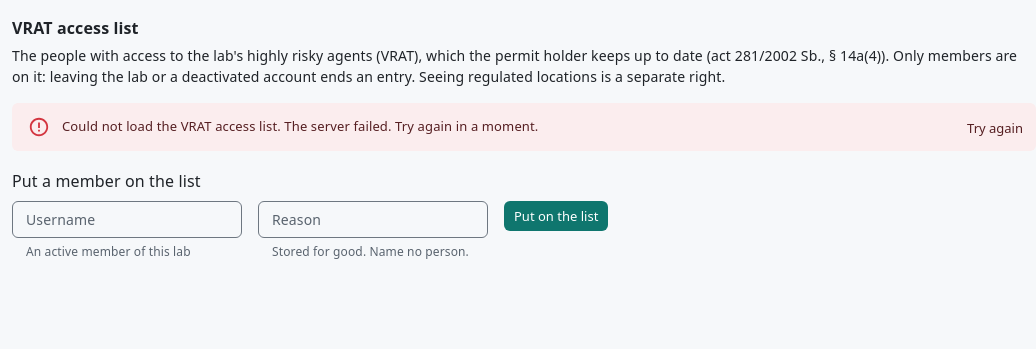
Test: the VRAT access list on the lab page (act 281/2002 Sb., § 14a(4)) › shows a failure to load with a retry that works
This screenshot has width=1036, height=349.
Check: the message shows "Could not load the VRAT access list.", box top-left (12, 103), bottom-right (1035, 151)
Click the button "Try again".
click(995, 128)  # box top-left (962, 113), bottom-right (1028, 144)
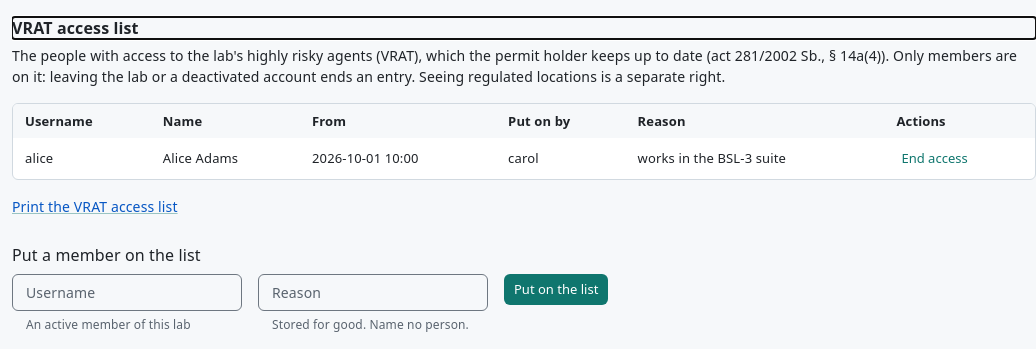
Check: the cell "alice" is shown, box top-left (13, 138), bottom-right (151, 179)
